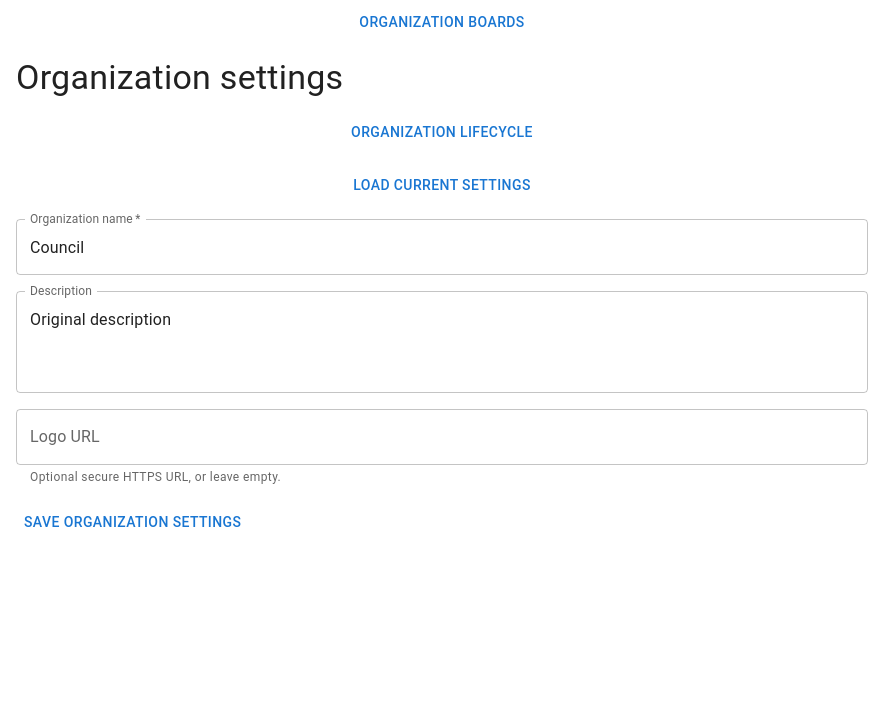
PRD-03-TC-01/05/06/08 Organization metadata administration › bounds the entire save including both profile checks and fences late JSON
Expected: the field labelled "Organization name *" is shown, [16,220,868,276]
Click the button "Save Organization settings" at point(133, 523), box [16,504,249,541]
Wait 15001 ms
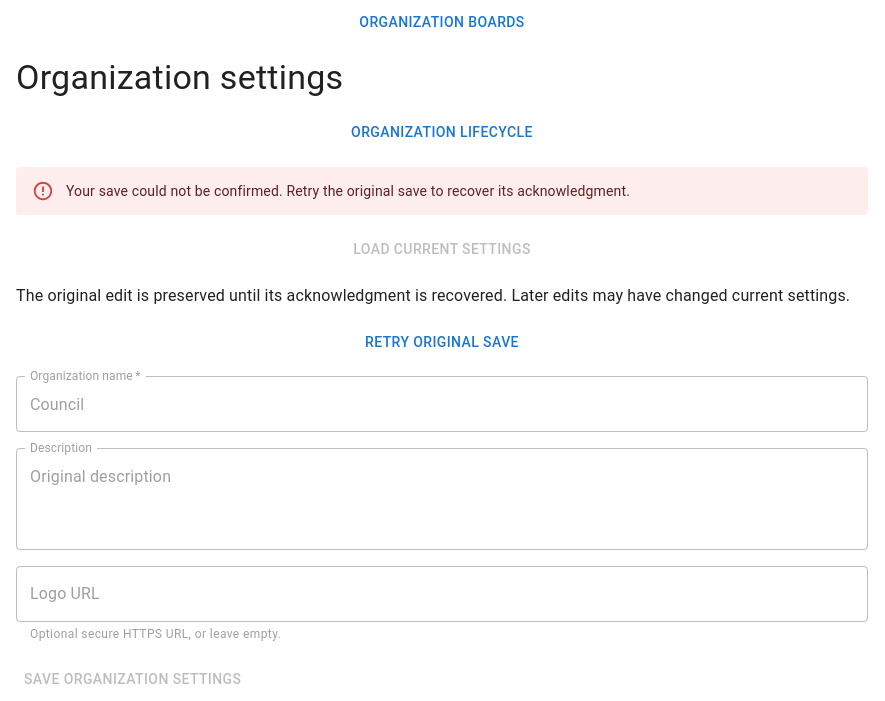
Now the button "Retry original save" is enabled, box [16,324,868,360]
